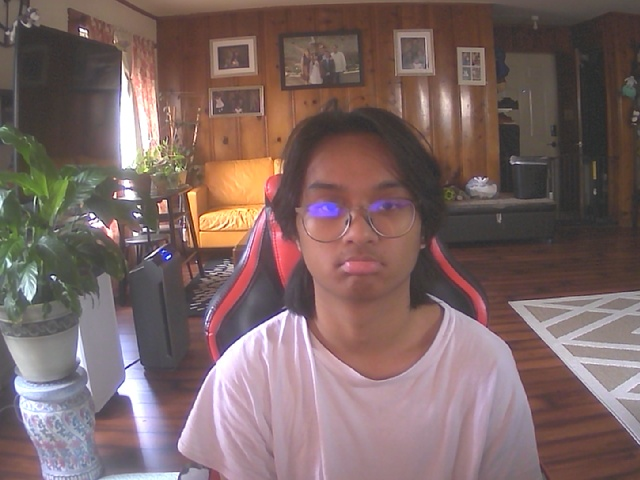sad: (287, 119, 433, 303)
